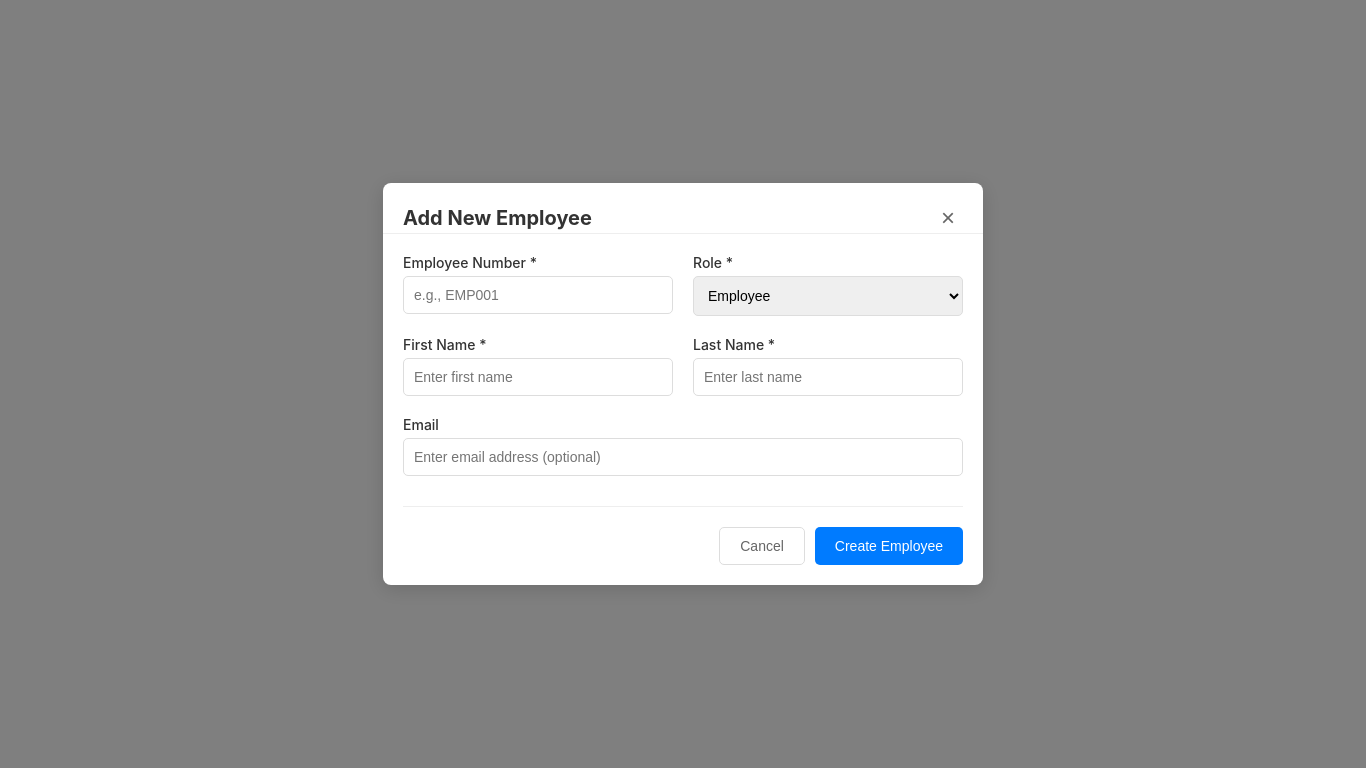
Test case: EmployeeForm › Create Employee Mode › validates name length
Fill valid employee number to isolate name validation
Type "EMP001" into the field labelled "Employee Number *".
click(538, 295); type("EMP001")  # box [403,276,673,314]
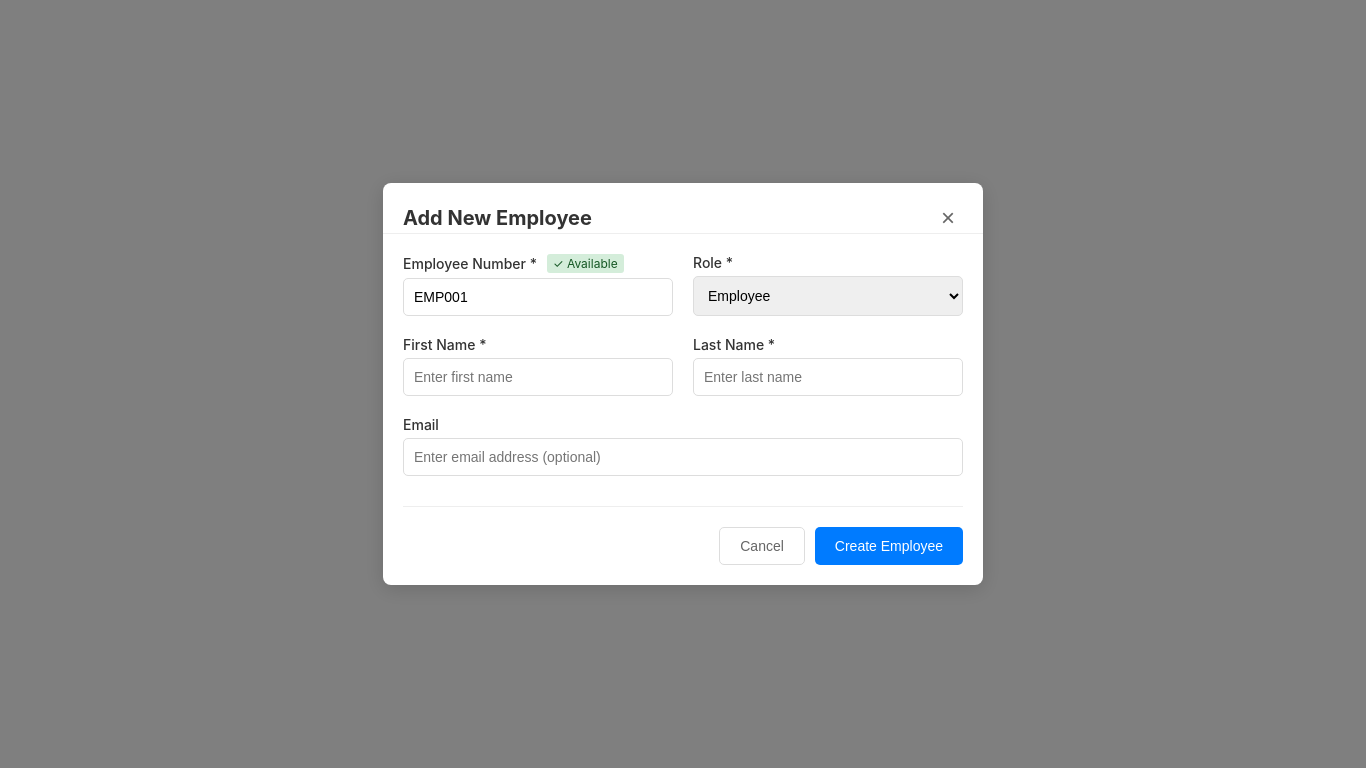
Type "A" into the field labelled "First Name *".
click(538, 377); type("A")  # box [403,358,673,396]
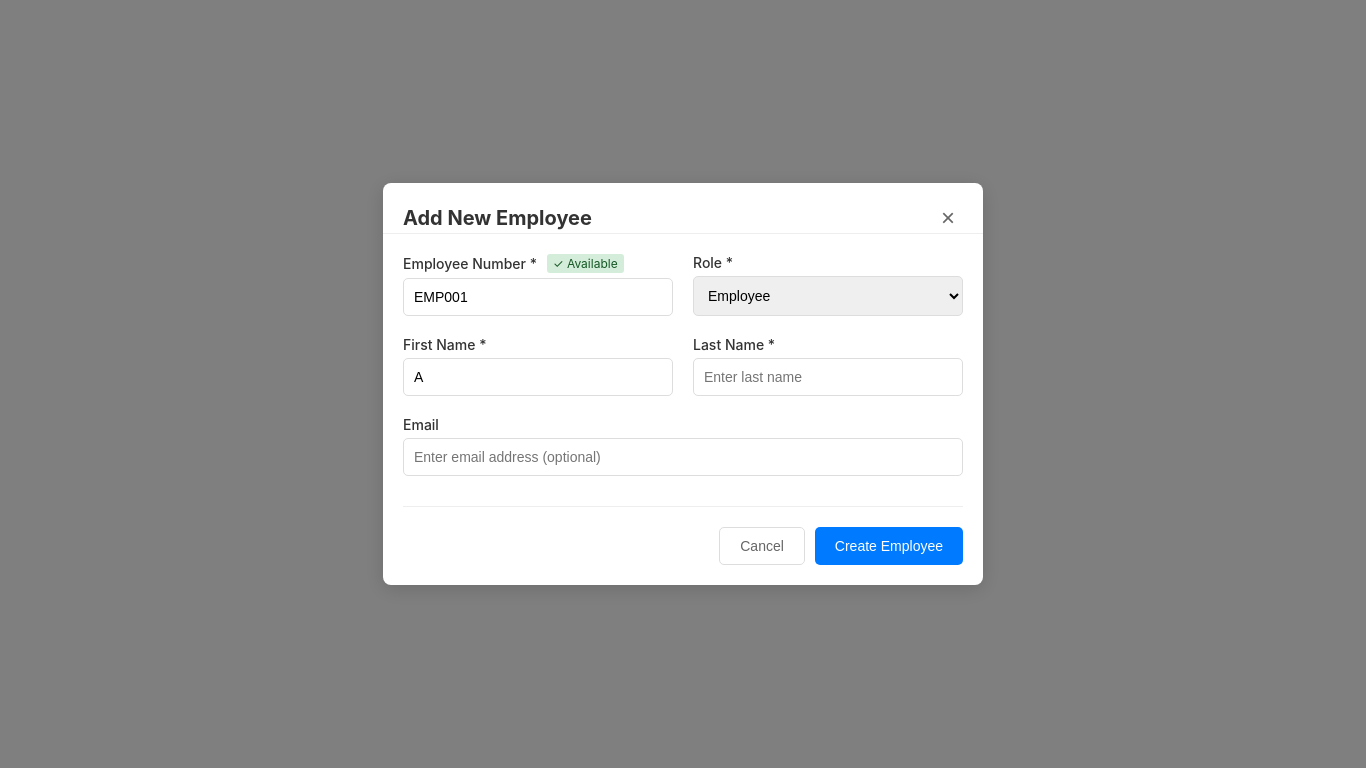
Type "B" into the field labelled "Last Name *".
click(828, 377); type("B")  # box [693,358,963,396]
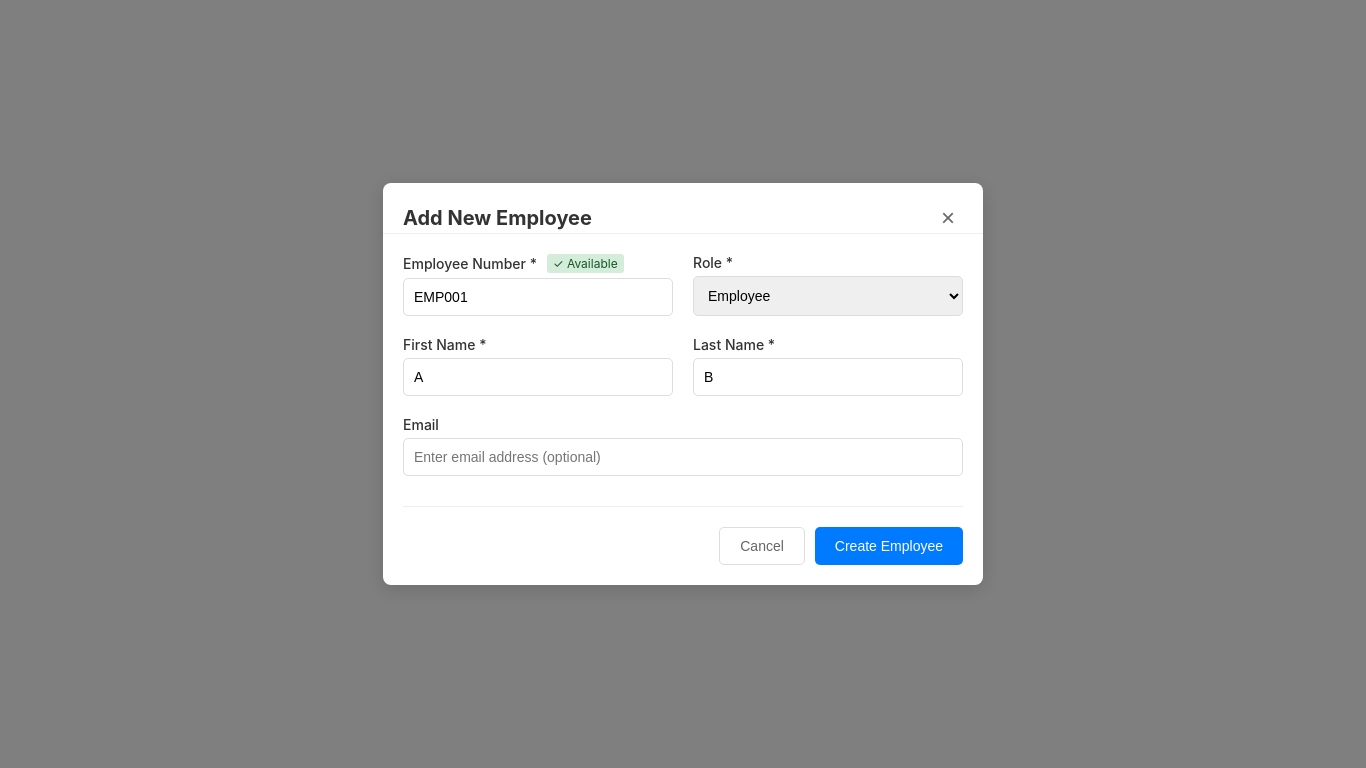
Click the button "Create Employee".
click(889, 546)  # box [815,527,963,565]
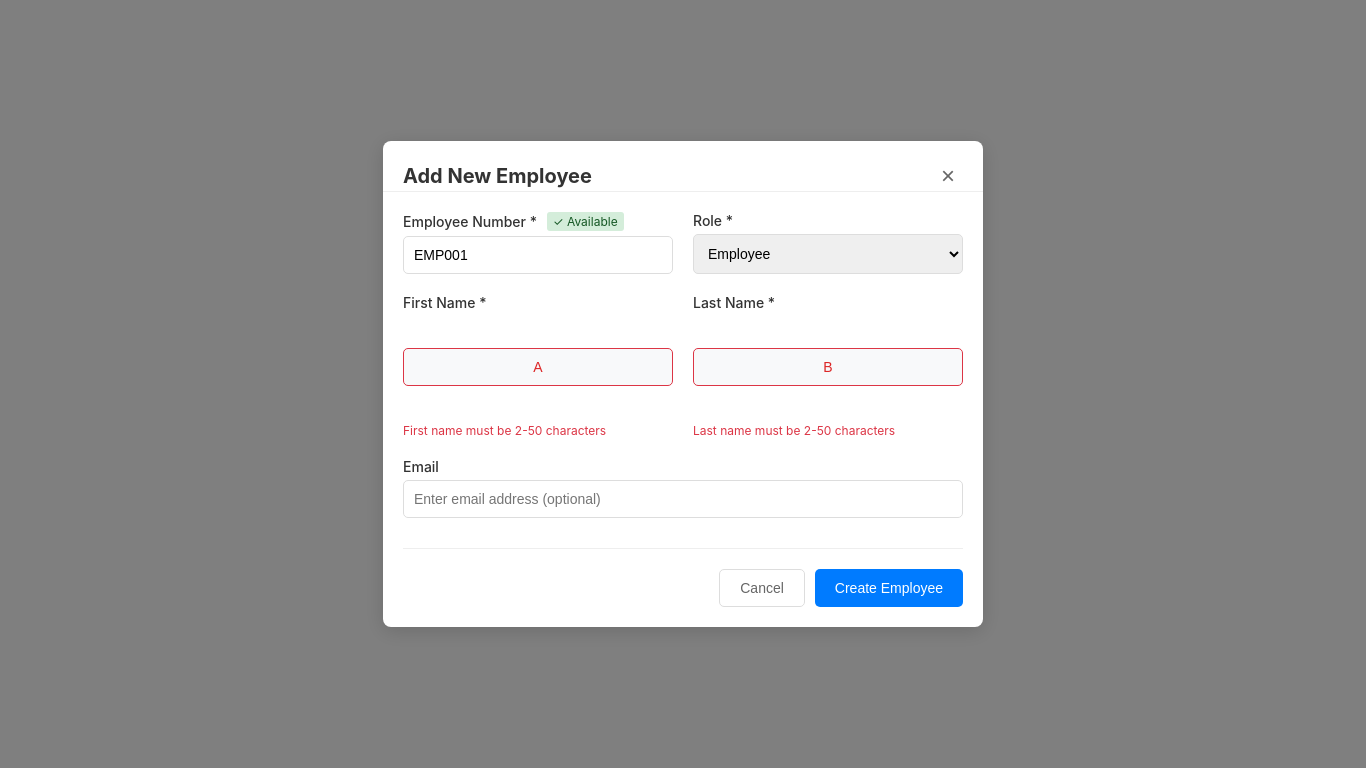
Check: the text "First name must be 2-50 characters" is shown, box [403,423,606,438]
Check: the text "Last name must be 2-50 characters" is shown, box [693,423,895,438]
